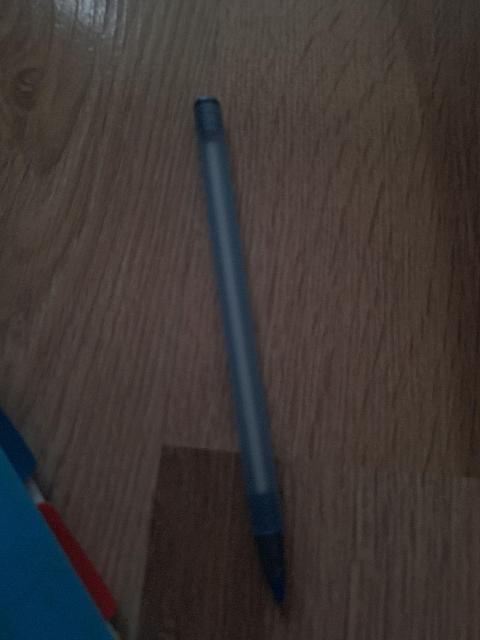writing_tool: (184, 96, 304, 628)
